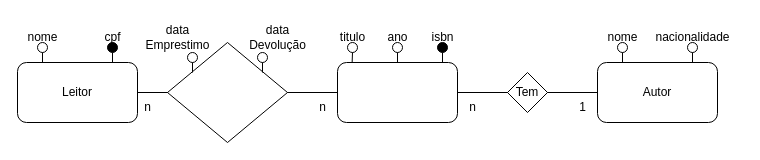
The diagram is 760 pixels wide and 160 high, and some of its shapes have lost their labels. The shapes that lost their labels are listed below. From the top down, each one's centre as x and y in pixels, then its label:
At point (227, 92): "Empréstimo".
At point (397, 92): "Livro".
